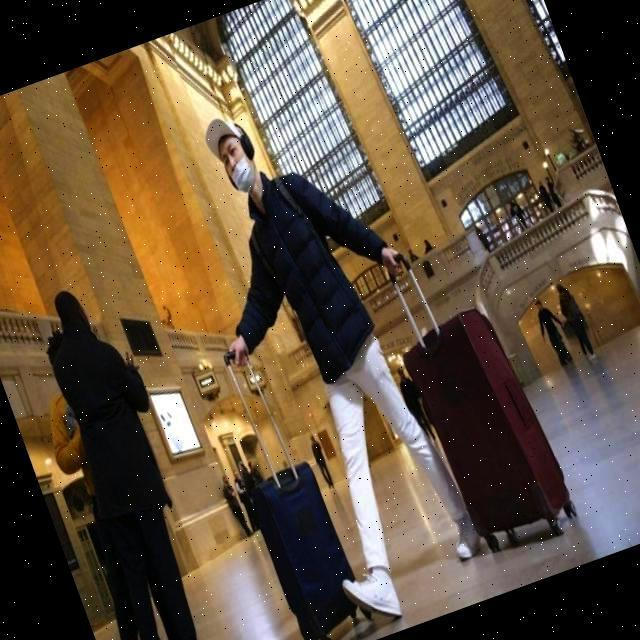mask: (227, 154, 257, 192)
no_apron: (381, 236, 404, 276), (219, 338, 247, 368)
